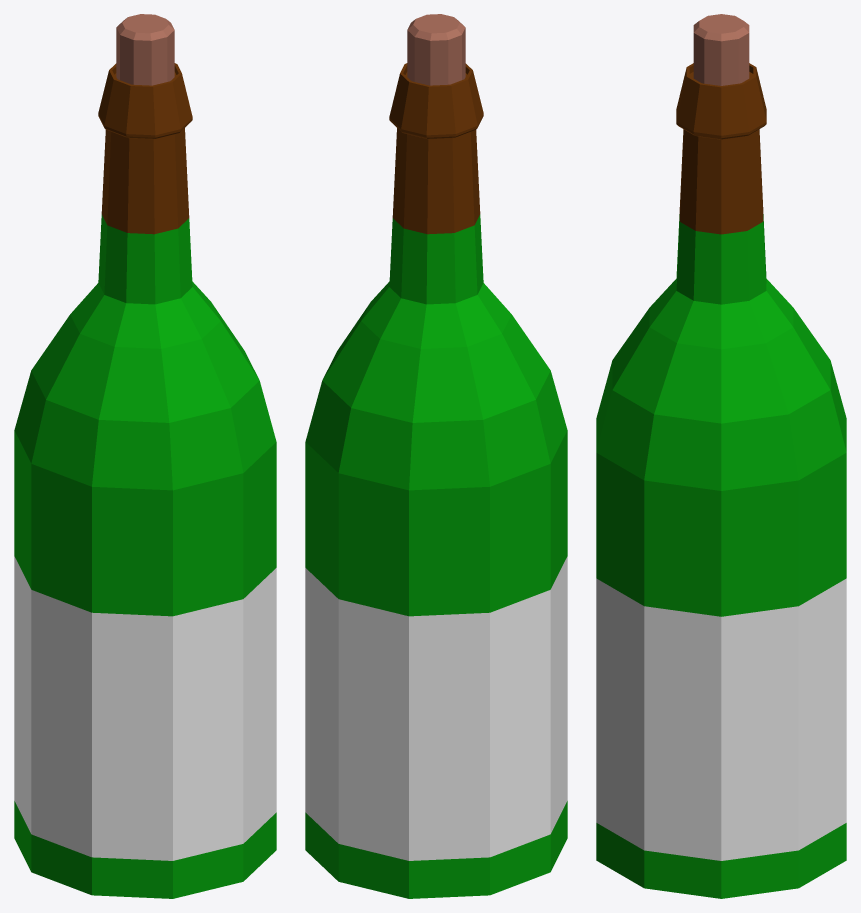
Rendered from bottle2.glb.
3 views of the same model, side by side, from view 1: azimuth 30°, elevation 25°; view 2: azimuth 150°, elevation 25°; view 3: azimuth 270°, elevation 25° (orthographic).
Visible parts, largest first — view 1: pCylinder3_yecan_brown_0; view 2: pCylinder3_yecan_brown_0; view 3: pCylinder3_yecan_brown_0.
Part boxes in pixels (x1=…): pCylinder3_yecan_brown_0: x1=14, y1=14, x2=276, y2=898; pCylinder3_yecan_brown_0: x1=305, y1=14, x2=567, y2=898; pCylinder3_yecan_brown_0: x1=596, y1=14, x2=846, y2=898.
Bounding box in the file's own units: 42.7 × 147 × 40.61.
4 materials, 4 textured.
